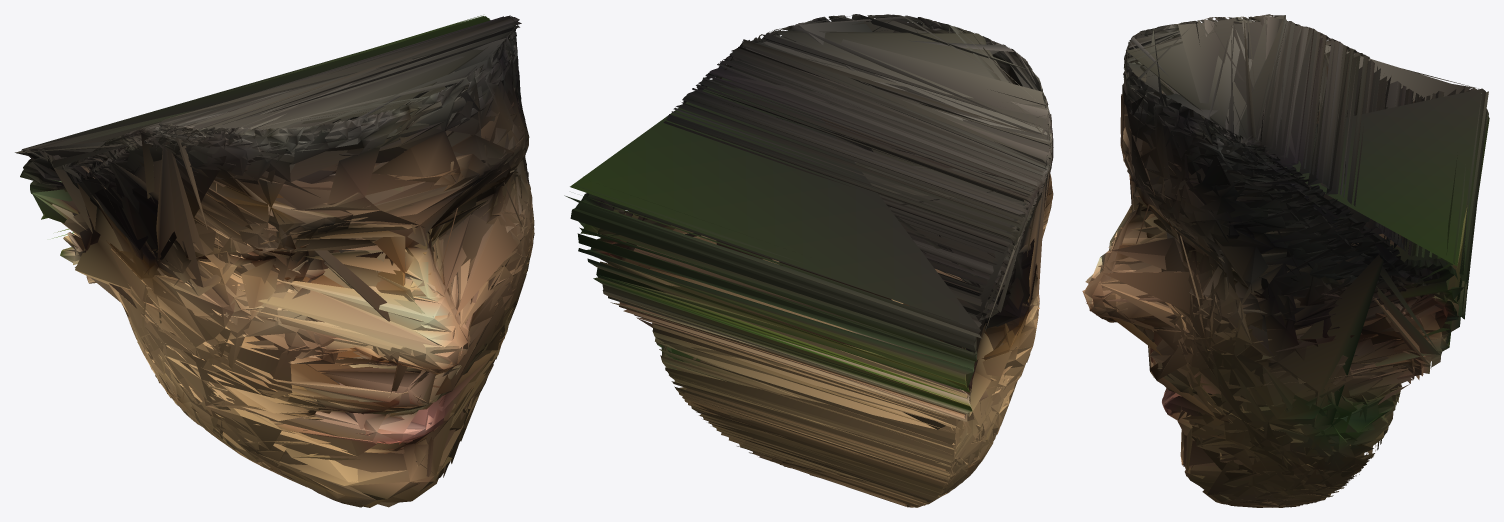
File: nice.obj
The picture shows the model from 3 angles, left to right: view 1: azimuth 30°, elevation 25°; view 2: azimuth 150°, elevation 25°; view 3: azimuth 270°, elevation 25°; orthographic projection. The views are drawn at different scales.
Bounding box in the file's own units: 481 × 455 × 388.
